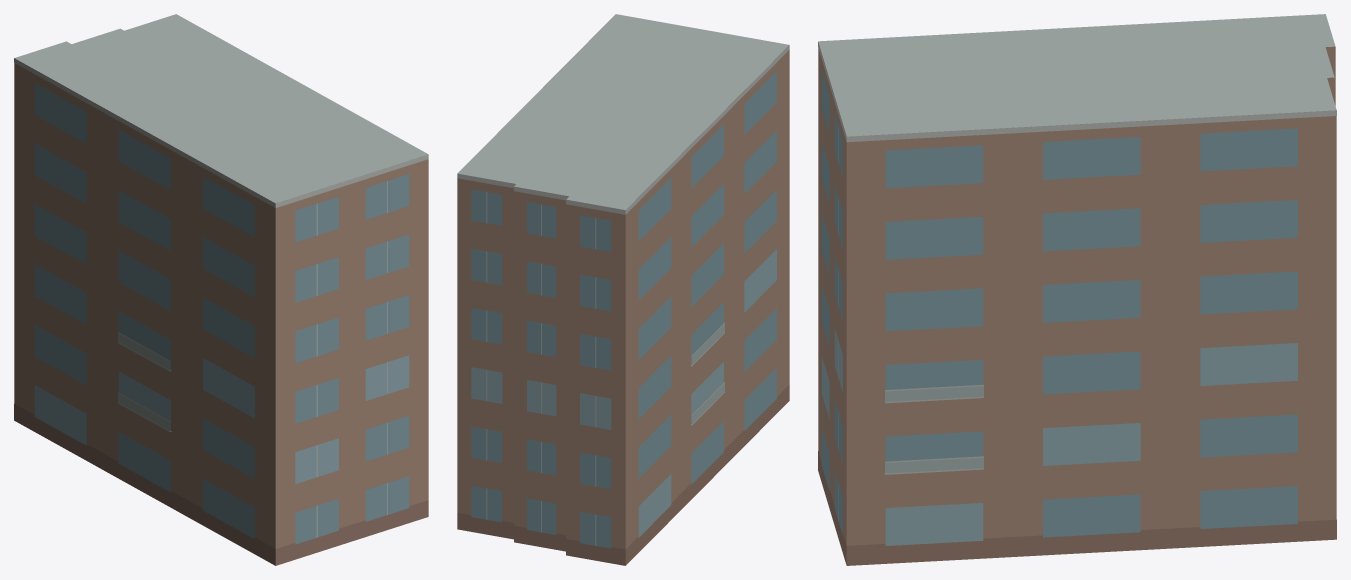
Rendered from survey-upis-32745922.glb.
3 views of the same model, side by side, from view 1: azimuth 30°, elevation 25°; view 2: azimuth 150°, elevation 25°; view 3: azimuth 270°, elevation 25° (orthographic). The views are drawn at different scales.
Visible parts, largest first — view 1: survey-upis-32745922.tmp; view 2: survey-upis-32745922.tmp; view 3: survey-upis-32745922.tmp.
Boxes of the visible parts, box(x1,y1,x2,y2) form: survey-upis-32745922.tmp: box(14, 14, 428, 565); survey-upis-32745922.tmp: box(457, 14, 789, 565); survey-upis-32745922.tmp: box(818, 14, 1336, 565).
Size of the model in its own units: 11.47 by 18.7 by 20.49.
